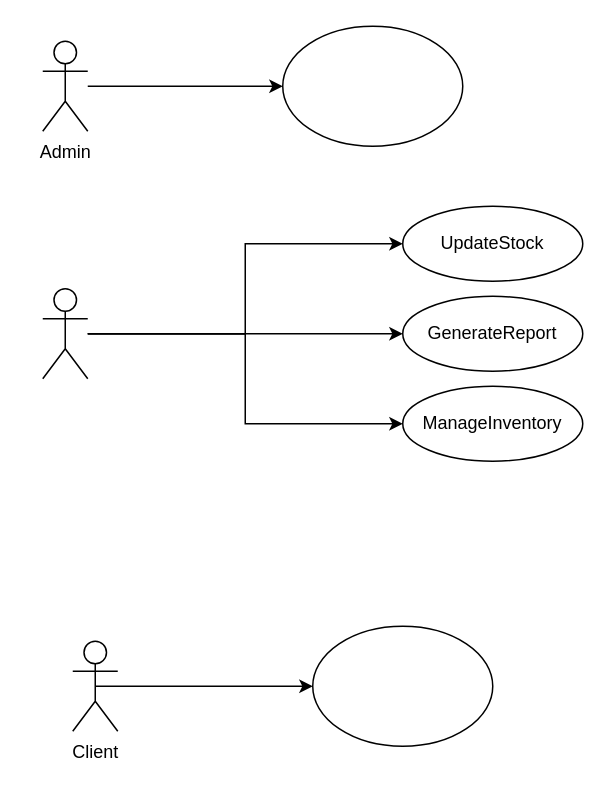
Some shapes in this 609 by 789 pixel diagram are drawn without their labels. Here are the shapes that lost their labels. From the top down, the box of each, then its label:
(281, 25, 463, 146): Authentification
(41, 287, 88, 379): Employee
(311, 625, 493, 746): PlaceOrder
